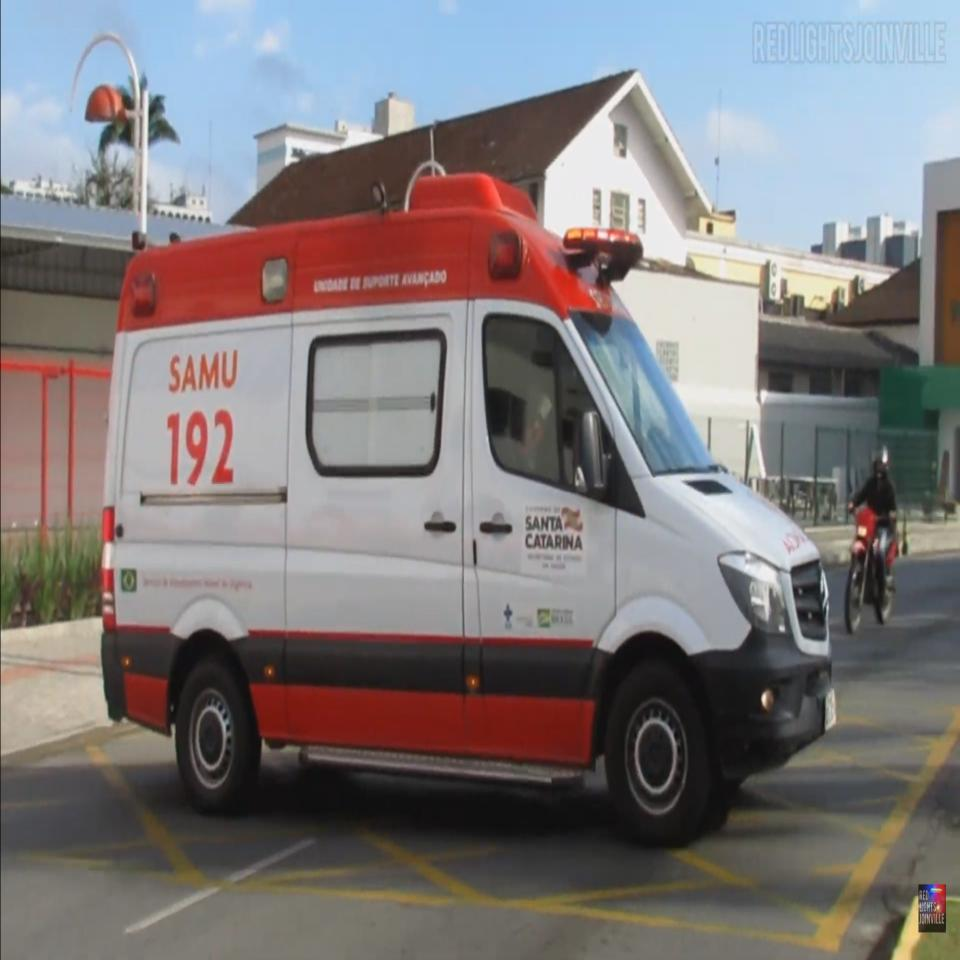bombeiro: (99, 157, 840, 852)
